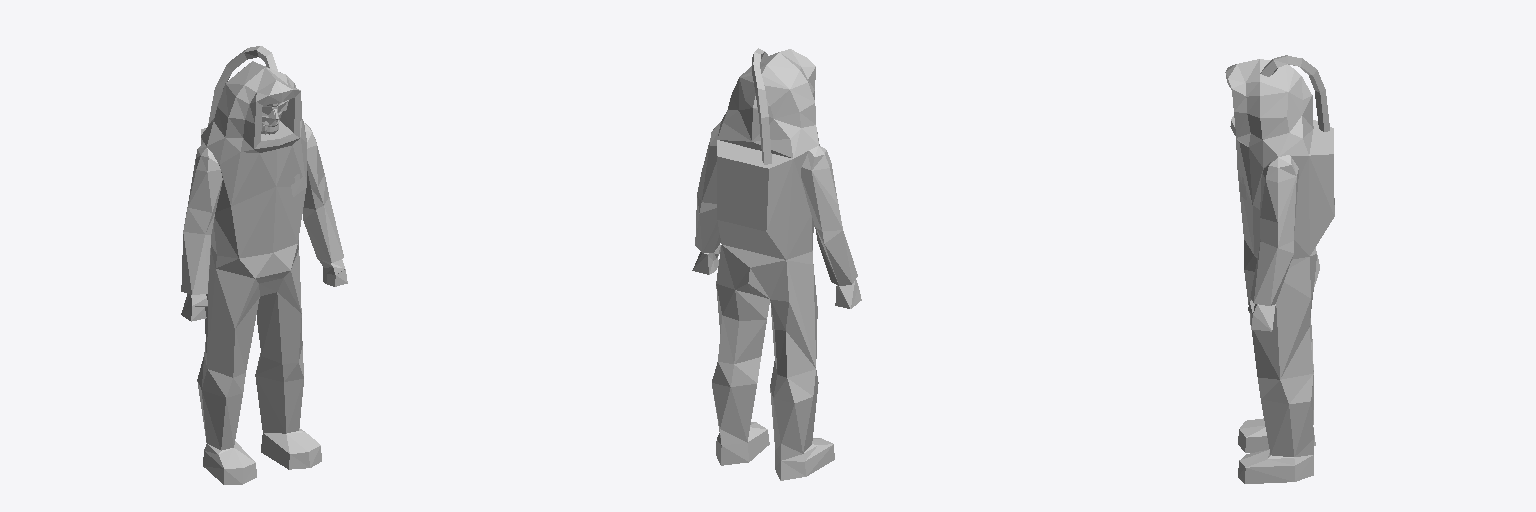
The model's file is Clean Suit.obj.
3 renders of one model, left to right at view 1: azimuth 30°, elevation 25°; view 2: azimuth 150°, elevation 25°; view 3: azimuth 270°, elevation 25°, orthographic.
Visible parts, largest first — view 1: body; view 2: body; view 3: body.
Boxes of the visible parts, box(x1,y1,x2,y2) form: body: box(181, 46, 347, 484); body: box(692, 48, 861, 480); body: box(1225, 55, 1334, 483).
Bounding box in the file's own units: 29.54 × 72.7 × 17.55.